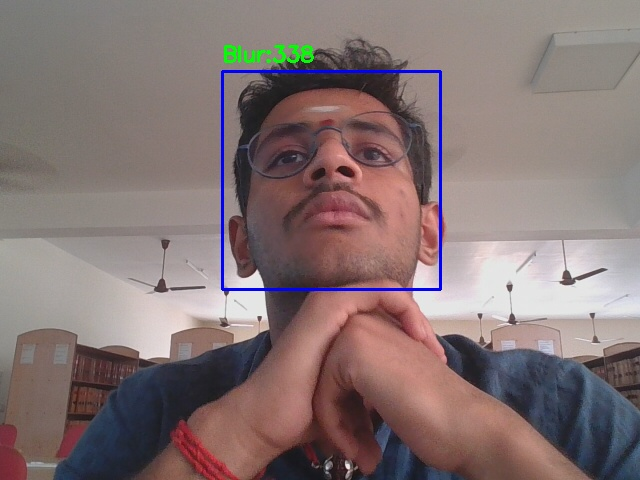real: (222, 71, 440, 289)
